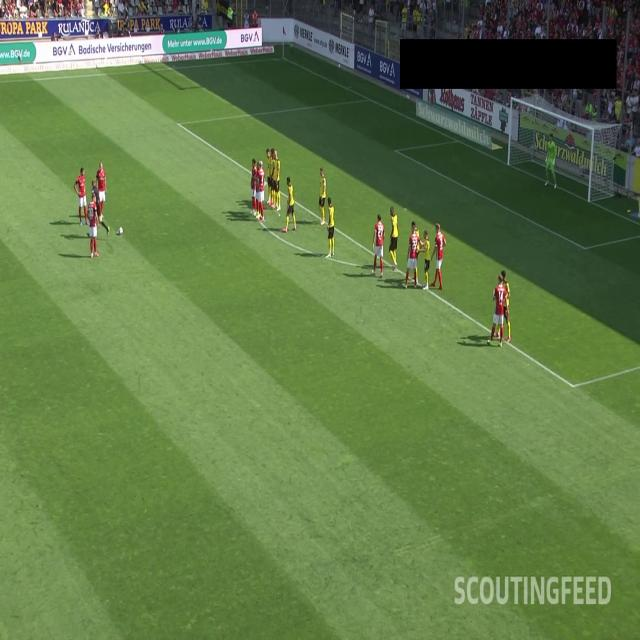ball: (118, 224, 124, 238)
player: (487, 275, 507, 348), (400, 219, 418, 287), (72, 165, 91, 228), (432, 218, 448, 290), (280, 176, 300, 233), (498, 264, 512, 344), (541, 130, 557, 190), (419, 224, 432, 292), (88, 192, 101, 258), (371, 211, 384, 277), (388, 203, 399, 273), (96, 161, 108, 223), (326, 192, 336, 260), (412, 222, 422, 281), (250, 153, 257, 219), (274, 149, 281, 213), (319, 166, 326, 229), (258, 157, 264, 225), (255, 156, 261, 218), (270, 144, 275, 208), (266, 144, 271, 206)
referee: (88, 173, 110, 240)
